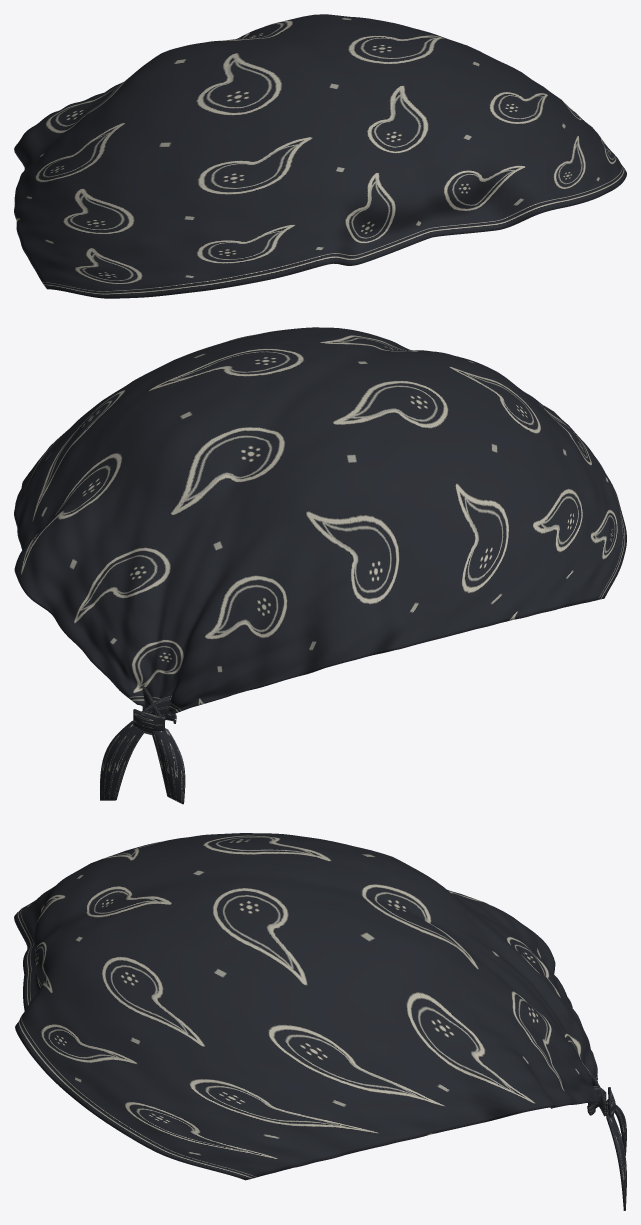
Rendered from Feminine-box-braids-bandana.glb.
3 views of the same model, one above another, from view 1: azimuth 30°, elevation 25°; view 2: azimuth 150°, elevation 25°; view 3: azimuth 270°, elevation 25° (orthographic). The views are drawn at different scales.
Visible parts, largest first — view 1: Bandana / folded crown scarf; view 2: Bandana / folded crown scarf, Bandana / falling tie 1, Bandana / falling tie -1; view 3: Bandana / folded crown scarf, Bandana / falling tie 1.
Boxes of the visible parts, bbox=[...] form: Bandana / folded crown scarf: bbox=[14, 14, 626, 298]; Bandana / folded crown scarf: bbox=[14, 327, 626, 714]; Bandana / falling tie 1: bbox=[100, 720, 144, 800]; Bandana / falling tie -1: bbox=[151, 728, 185, 804]; Bandana / folded crown scarf: bbox=[14, 833, 600, 1180]; Bandana / falling tie 1: bbox=[606, 1100, 626, 1210].
Size of the model in its own units: 0.7789 by 0.408 by 0.7184.
Materials: 1 (1 with a texture image).
